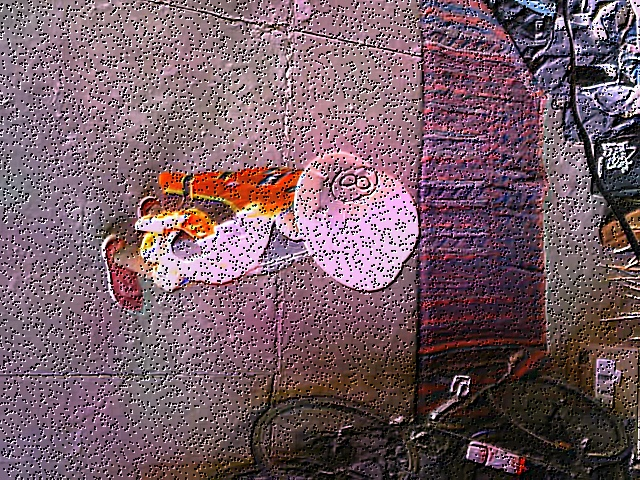eight: (331, 166, 376, 202)
